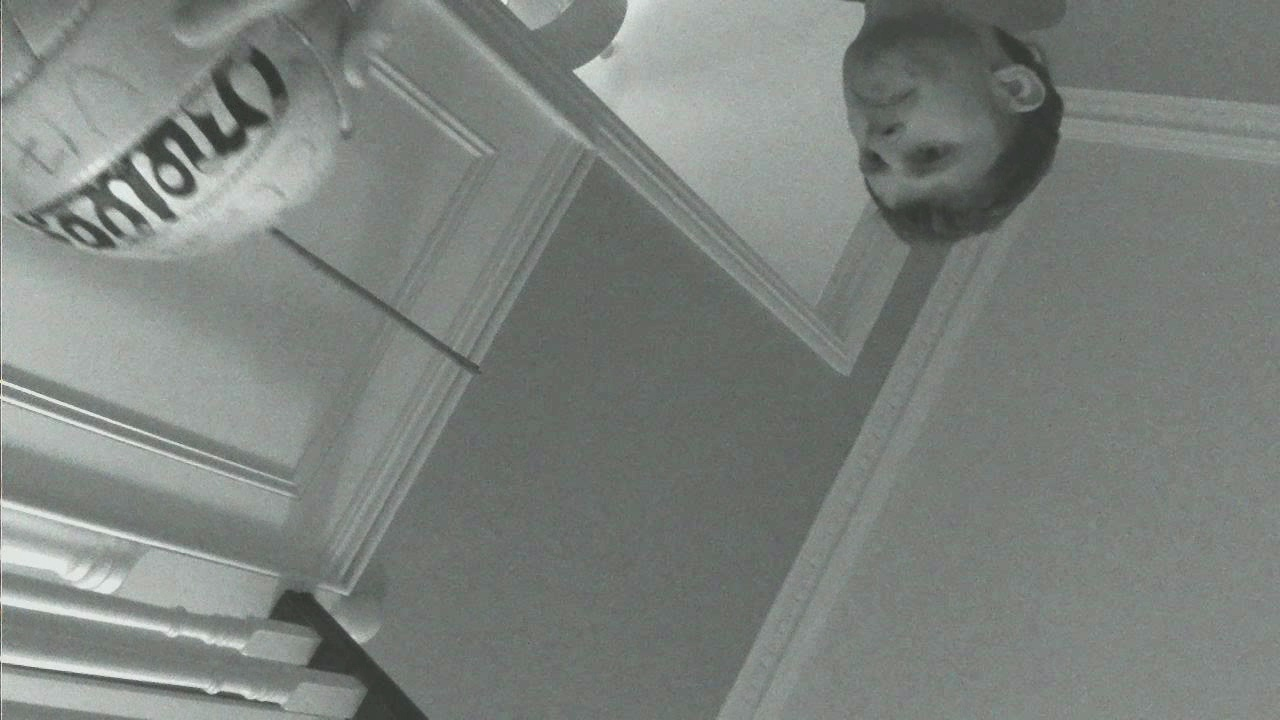Football-Spotter: (0, 0, 353, 254)
